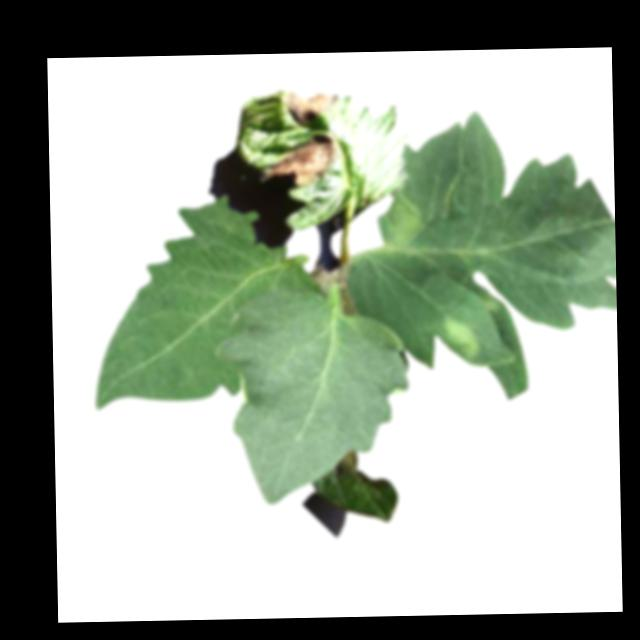Late_blight: (259, 134, 338, 190), (380, 191, 424, 258), (310, 264, 351, 318), (439, 312, 480, 364), (281, 88, 338, 125), (331, 451, 370, 481)
